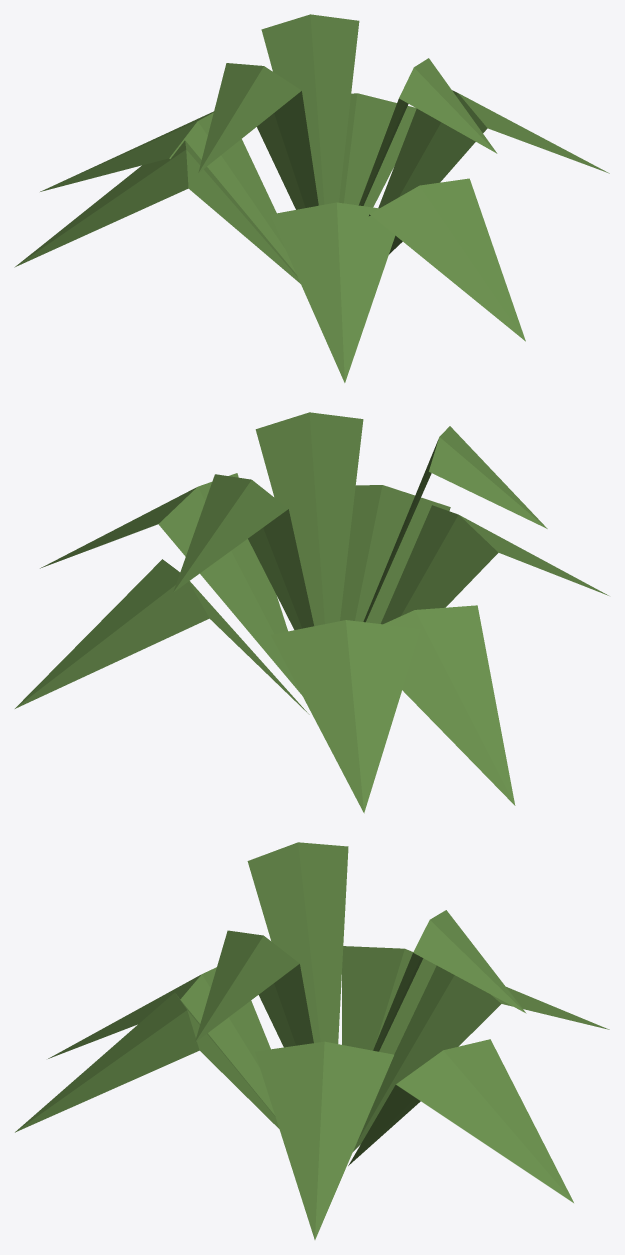
The model's file is Fern.fbx.
3 renders of one model, top to bottom at view 1: azimuth 30°, elevation 25°; view 2: azimuth 150°, elevation 25°; view 3: azimuth 270°, elevation 25°, orthographic. The views are drawn at different scales.
Parts seen in each view (by area): view 1: Fronds; view 2: Fronds; view 3: Fronds.
Boxes of the visible parts, bbox=[...] form: Fronds: bbox=[14, 14, 609, 382]; Fronds: bbox=[15, 412, 608, 813]; Fronds: bbox=[15, 842, 609, 1239].
Bounding box in the file's own units: 2.49 × 1.2 × 2.35.
